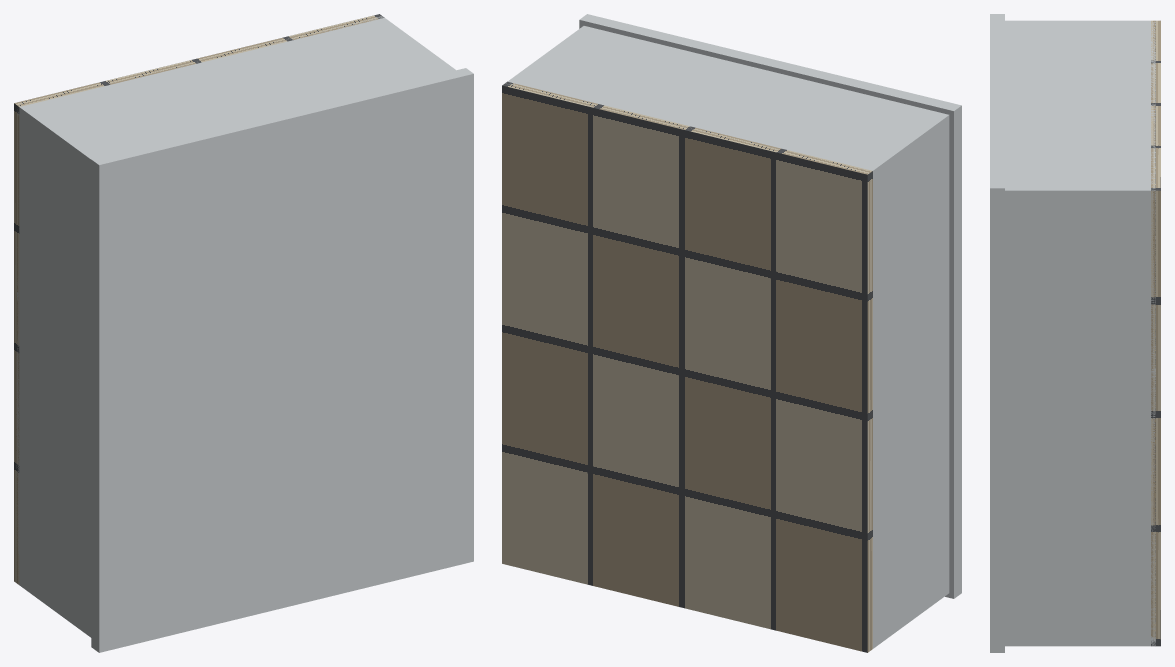
The model's file is textured-interior-cm-z.glb.
3 renders of one model, left to right at view 1: azimuth 30°, elevation 25°; view 2: azimuth 150°, elevation 25°; view 3: azimuth 270°, elevation 25°, orthographic. The views are drawn at different scales.
Visible parts, largest first — view 1: Roof, Left wall, Back wall, Lobby and rooms floor; view 2: Lobby and rooms floor, Left wall, Back wall, Roof, Room wall; view 3: Right wall, Back wall, Roof, Lobby and rooms floor, Front right, Room wall, Left wall, Room divider.
Boxes of the visible parts, <box> form: Roof: <box>91,68,473,652</box>; Left wall: <box>16,104,98,637</box>; Back wall: <box>17,16,455,167</box>; Lobby and rooms floor: <box>14,14,384,584</box>; Lobby and rooms floor: <box>502,81,872,652</box>; Left wall: <box>864,113,949,648</box>; Back wall: <box>508,26,949,179</box>; Roof: <box>579,14,961,598</box>; Room wall: <box>873,303,949,365</box>; Right wall: <box>1005,186,1155,646</box>; Back wall: <box>1005,20,1155,199</box>; Roof: <box>990,14,1004,652</box>; Lobby and rooms floor: <box>1151,20,1160,646</box>; Front right: <box>1005,637,1155,646</box>; Room wall: <box>1005,368,1155,377</box>; Left wall: <box>1005,20,1155,24</box>; Room divider: <box>1005,103,1155,107</box>.
Bounding box in the file's own units: 820 × 1020 × 340.
4 materials, 1 textured.
